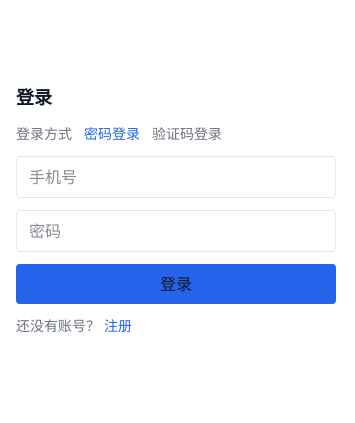
Test: LoginPage 分流 › 409 DEVICE_VERIFICATION_REQUIRED → 切步进视图:提示+掩码手机号+不自动发码
The width and height of the screenshot is (355, 423).
In the field with placeholder "手机号": (176, 177) [16, 156, 336, 198], type "13800000000"
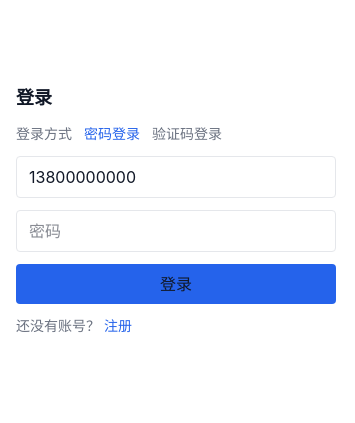
In the password field with placeholder "密码": (176, 231) [16, 210, 336, 252], type "spike-password"
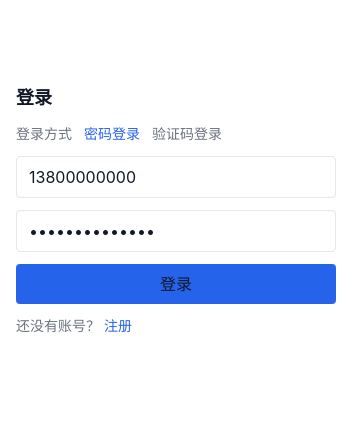
Submit the form, box [16, 84, 336, 336]
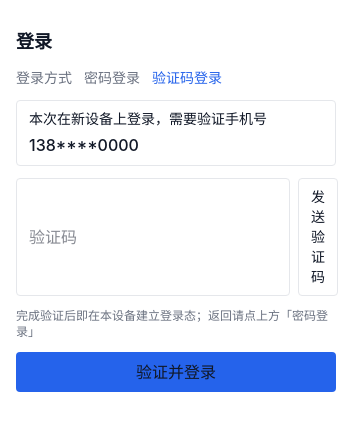
Expected: the text "本次在新设备上登录" is shown, [29, 110, 267, 127]
Expected: the text "138****0000" is shown, [29, 135, 139, 155]
Expected: the submit button reads "验证并登录", [16, 352, 336, 392]
Submit the form
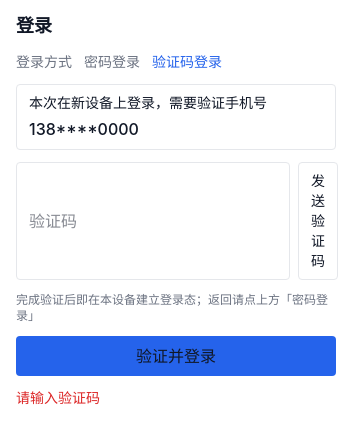
Expected: the text "本次在新设备上登录" is shown, [29, 94, 267, 111]
Expected: the text "请输入验证码" is shown, [16, 389, 100, 406]
